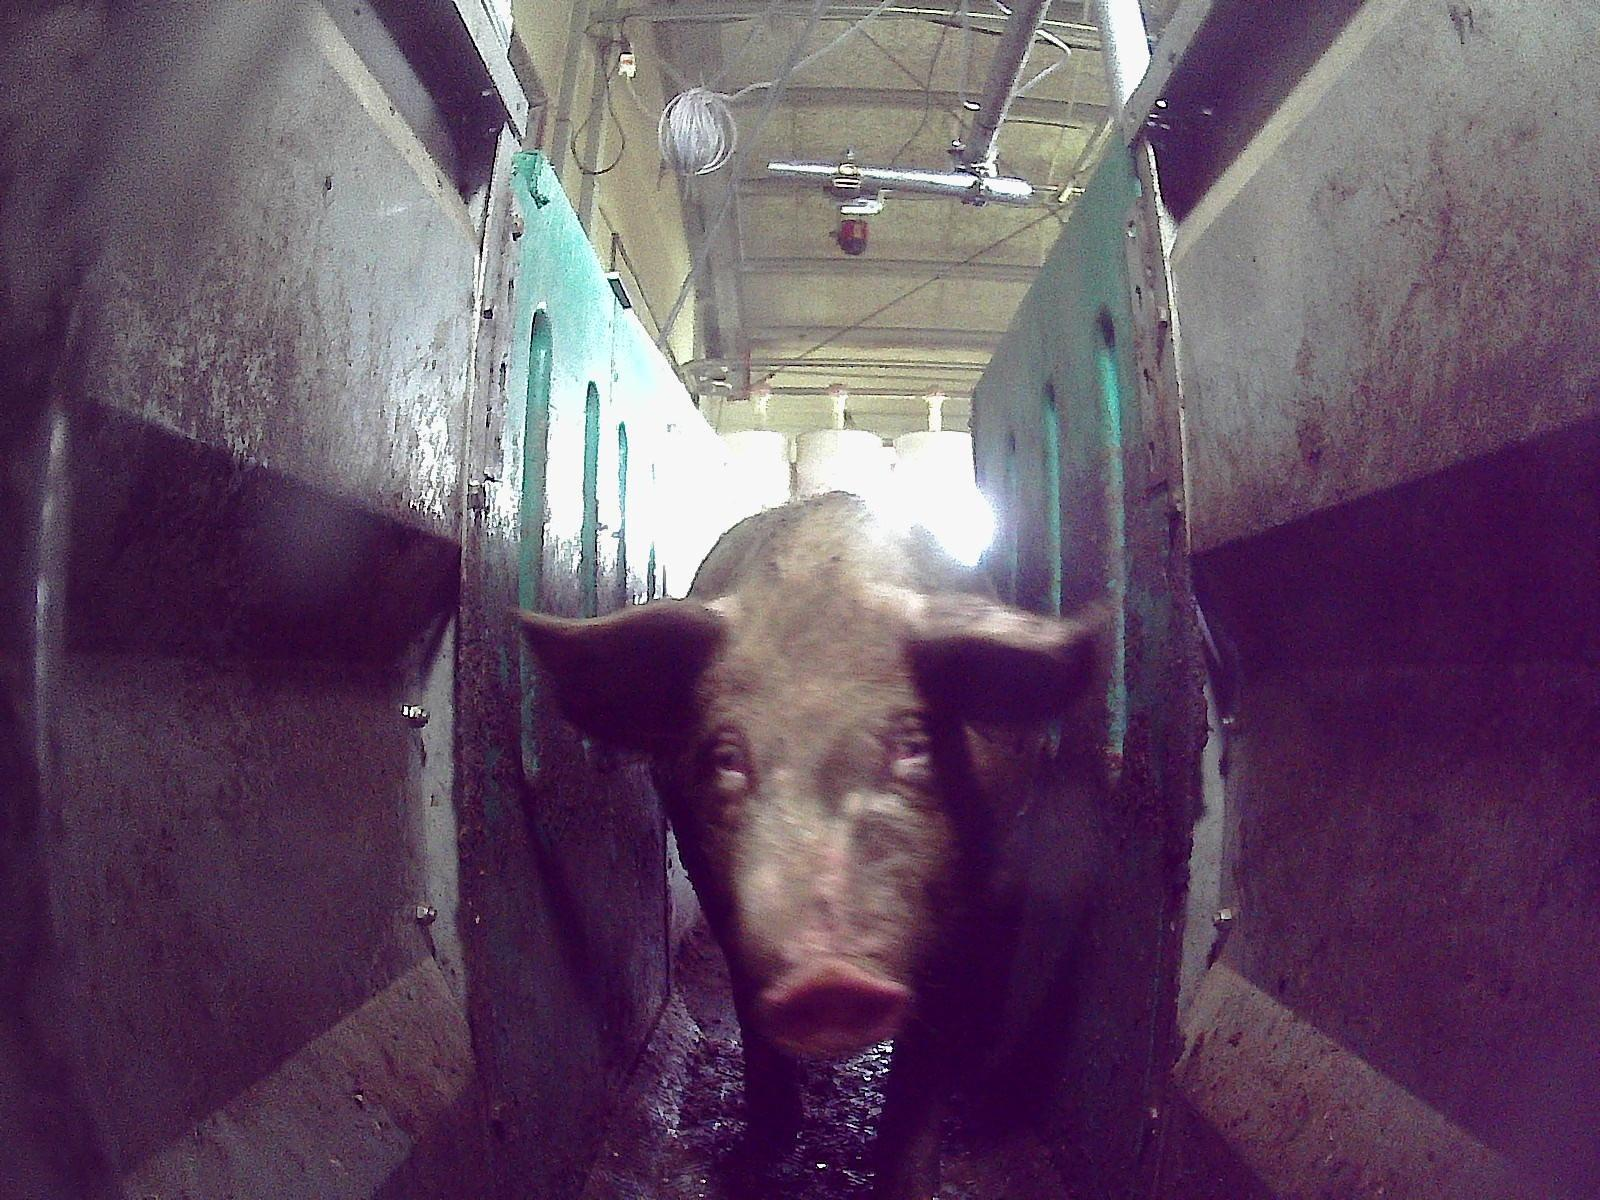Face: (668, 582, 988, 1057)
